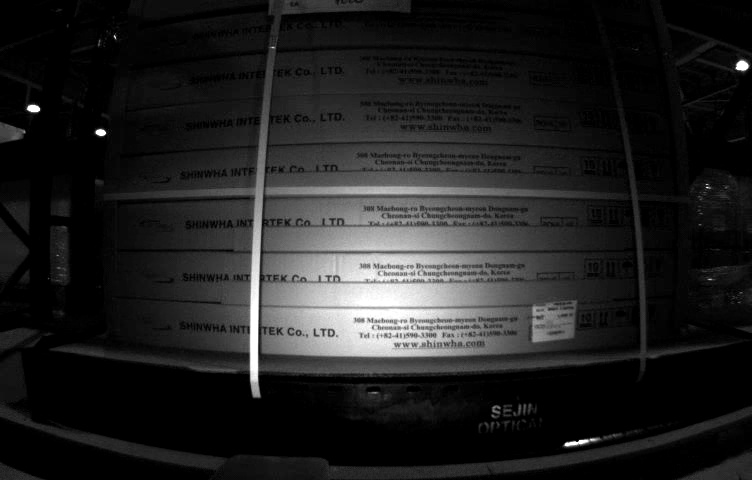True Barcode: (532, 302, 576, 340)
